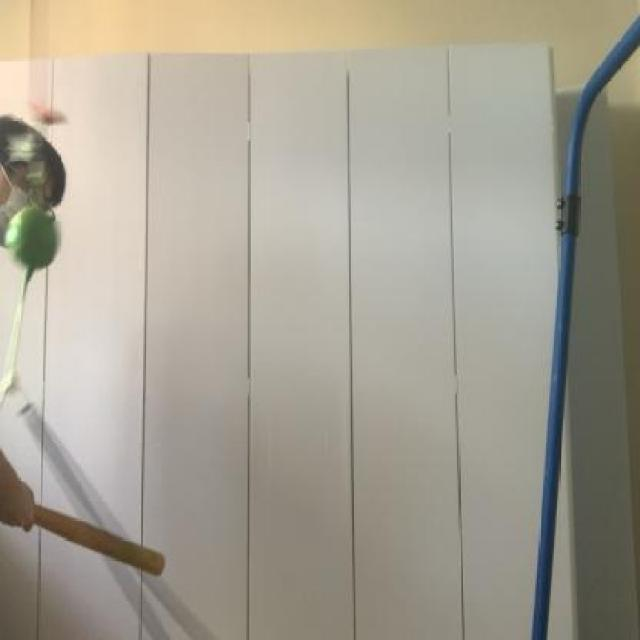baseball: (0, 199, 68, 279)
